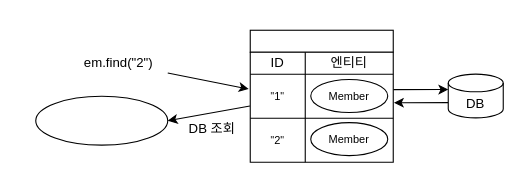
Some shapes in this 532 by 191 pixel diagram are drawn without their labels. The box of each missing label's shape, as (x1, y1, x2, y2) in pixels:
Member(id = "2"): (35, 95, 168, 145)
영속성 컨텍스트: (249, 29, 393, 52)
